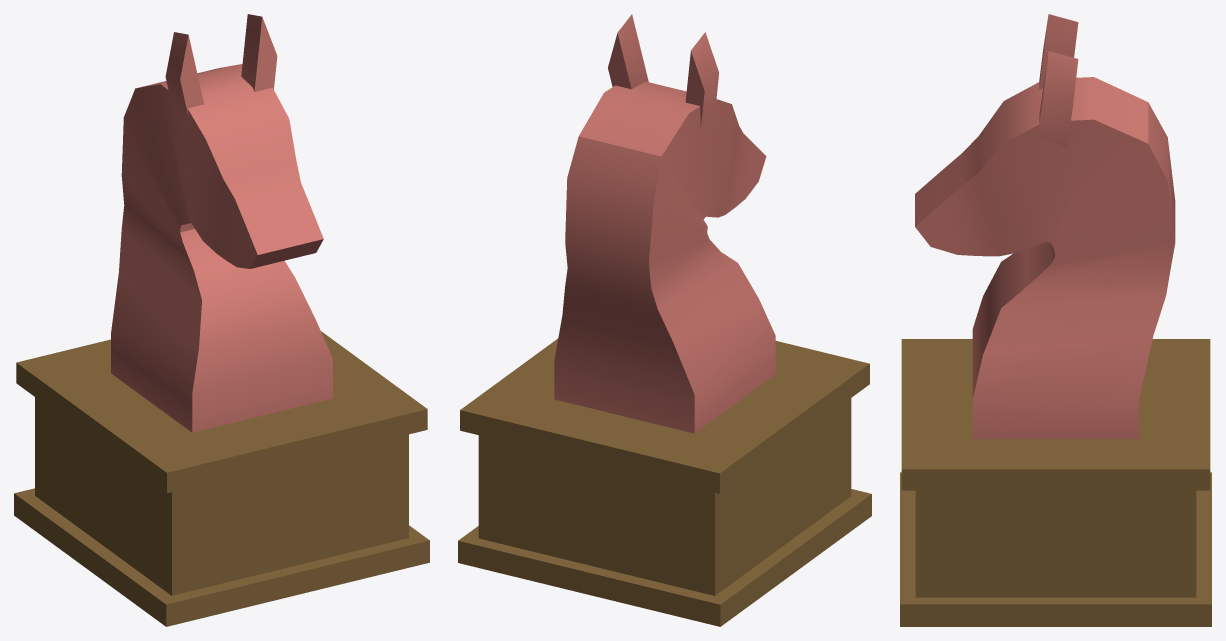
The model's file is cavalo.fbx.
3 views of the same model, side by side, from view 1: azimuth 30°, elevation 25°; view 2: azimuth 150°, elevation 25°; view 3: azimuth 270°, elevation 25° (orthographic). The views are drawn at different scales.
Visible parts, largest first — view 1: Plane; view 2: Plane; view 3: Plane.
Boxes of the visible parts, <box> form: Plane: <box>14,14,429,626</box>; Plane: <box>458,14,871,626</box>; Plane: <box>900,14,1211,626</box>.
Bounding box in the file's own units: 400 × 749 × 400.
